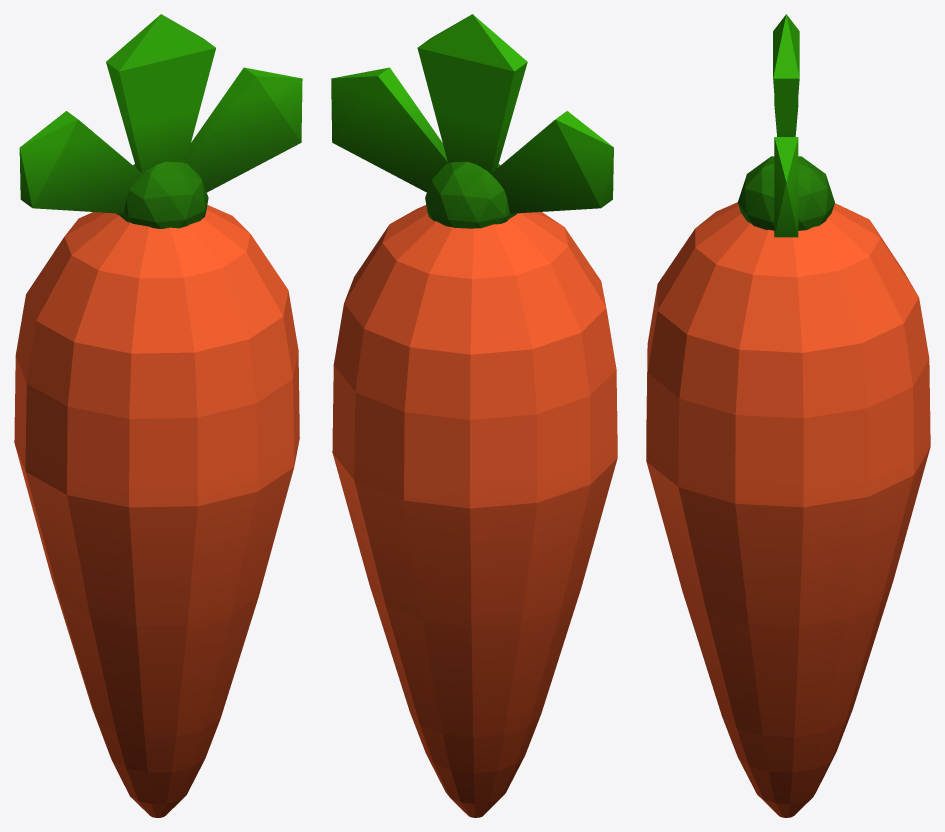
Rendered from zanahoria.fbx.
3 views of the same model, side by side, from view 1: azimuth 30°, elevation 25°; view 2: azimuth 150°, elevation 25°; view 3: azimuth 270°, elevation 25° (orthographic).
Parts seen in each view (by area): view 1: Cube.001; view 2: Cube.001; view 3: Cube.001.
Part boxes in pixels (left/top/right/bottom): Cube.001: left=14, top=14, right=302, bottom=817; Cube.001: left=331, top=14, right=617, bottom=817; Cube.001: left=646, top=14, right=930, bottom=817.
Size of the model in its own units: 190 by 514 by 165.
Materials: 1 (1 with a texture image).
